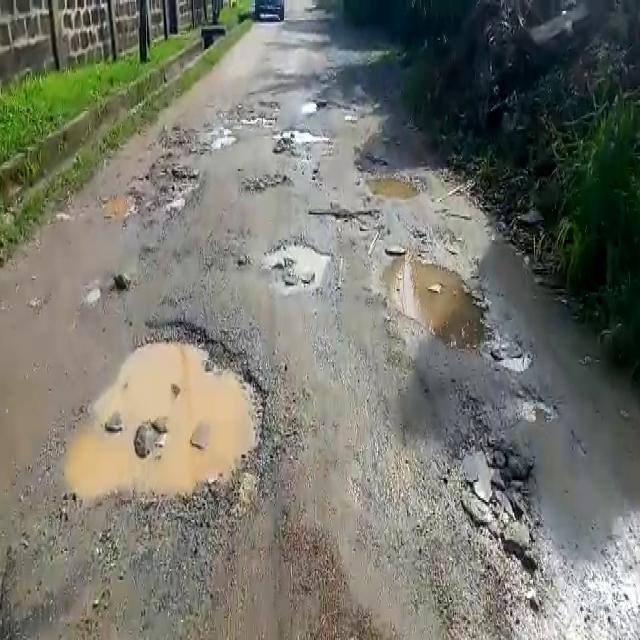Pothole: (69, 309, 276, 514), (380, 252, 493, 358), (263, 234, 329, 290), (505, 385, 557, 428), (361, 168, 420, 203), (313, 207, 381, 230), (100, 187, 135, 226), (240, 168, 292, 192), (273, 130, 333, 148), (230, 108, 282, 126)
